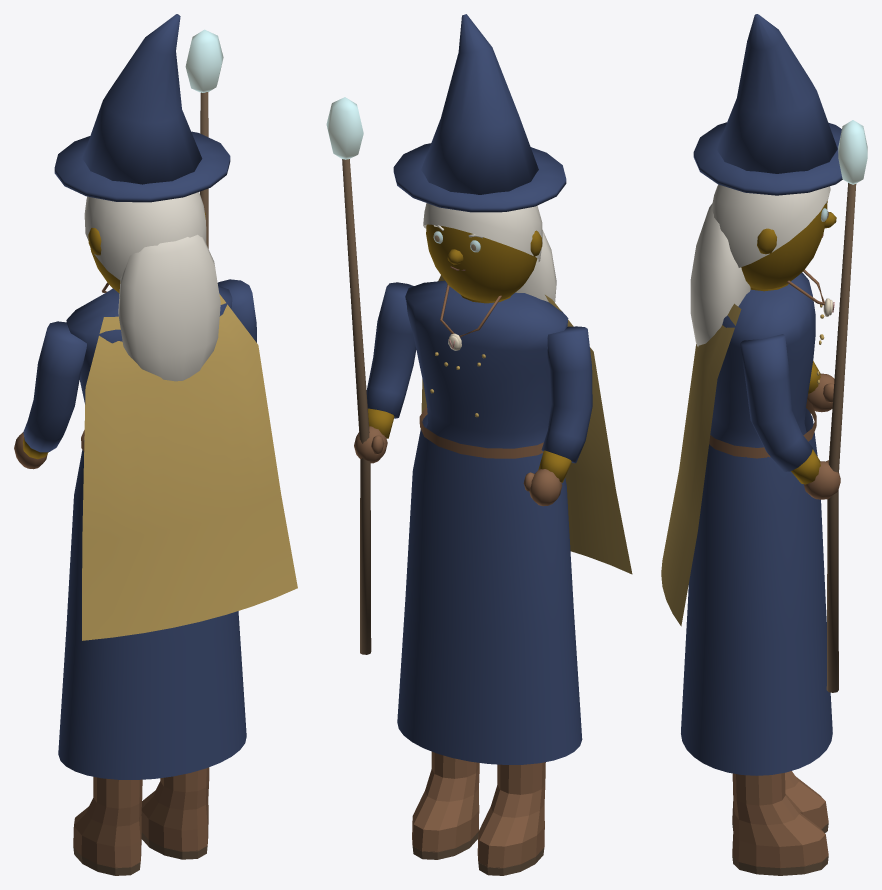
The model's file is SM_NPC_HIELO.glb.
3 views of the same model, side by side, from view 1: azimuth 30°, elevation 25°; view 2: azimuth 150°, elevation 25°; view 3: azimuth 270°, elevation 25° (orthographic). The views are drawn at different scales.
Visible parts, largest first — view 1: SM_NPC_HIELO_BODY, SM_NPC_HIELO_HAIR, SM_NPC_HIELO_ARM_L, SM_NPC_HIELO_LEG_L, SM_NPC_HIELO_LEG_R, SM_NPC_HIELO_ARM_R, SM_NPC_HIELO_HEAD; view 2: SM_NPC_HIELO_BODY, SM_NPC_HIELO_HAIR, SM_NPC_HIELO_ARM_R, SM_NPC_HIELO_ARM_L, SM_NPC_HIELO_LEG_L, SM_NPC_HIELO_LEG_R, SM_NPC_HIELO_HEAD; view 3: SM_NPC_HIELO_BODY, SM_NPC_HIELO_HAIR, SM_NPC_HIELO_ARM_R, SM_NPC_HIELO_LEG_R, SM_NPC_HIELO_HEAD, SM_NPC_HIELO_LEG_L, SM_NPC_HIELO_ARM_L.
Boxes of the visible parts, x1,y1,x2,y2 form: SM_NPC_HIELO_BODY: [58, 282, 297, 779]; SM_NPC_HIELO_HAIR: [54, 14, 230, 381]; SM_NPC_HIELO_ARM_L: [14, 321, 86, 469]; SM_NPC_HIELO_LEG_L: [73, 776, 142, 875]; SM_NPC_HIELO_LEG_R: [141, 767, 209, 859]; SM_NPC_HIELO_ARM_R: [185, 29, 256, 342]; SM_NPC_HIELO_HEAD: [88, 212, 205, 293]; SM_NPC_HIELO_BODY: [397, 275, 632, 764]; SM_NPC_HIELO_HAIR: [393, 14, 566, 302]; SM_NPC_HIELO_ARM_R: [326, 97, 416, 654]; SM_NPC_HIELO_ARM_L: [523, 326, 592, 506]; SM_NPC_HIELO_LEG_L: [477, 762, 545, 875]; SM_NPC_HIELO_LEG_R: [412, 751, 479, 859]; SM_NPC_HIELO_HEAD: [426, 224, 542, 301]; SM_NPC_HIELO_BODY: [661, 269, 834, 775]; SM_NPC_HIELO_HAIR: [690, 14, 842, 346]; SM_NPC_HIELO_ARM_R: [740, 120, 867, 692]; SM_NPC_HIELO_LEG_R: [732, 773, 828, 875]; SM_NPC_HIELO_HEAD: [741, 200, 836, 289]; SM_NPC_HIELO_LEG_L: [732, 771, 828, 832]; SM_NPC_HIELO_ARM_L: [807, 361, 834, 412].
Size of the model in its own units: 0.5823 by 2.04 by 0.4531.
